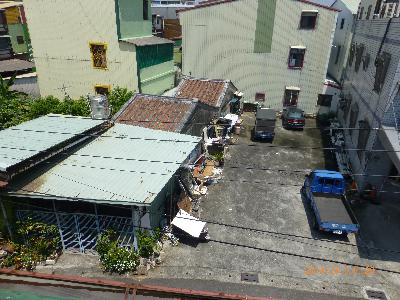water_tower: (87, 92, 111, 121)
